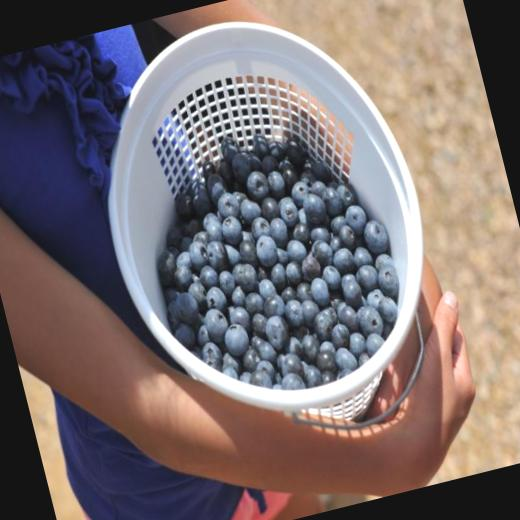Orange: (130, 104, 418, 417)
